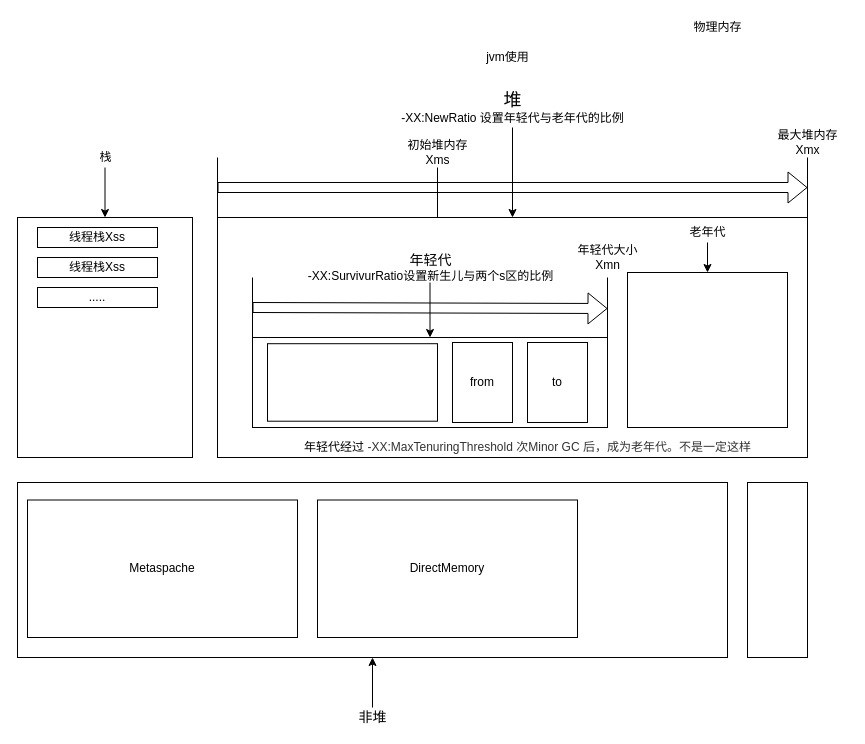
Some shapes in this 865 by 744 pixel diagram are drawn without their labels. Here are the shapes that lost their labels. From the top down, the box of each, then its label:
(626, 272, 788, 428): 老年代通过Full GC回收，会产生内存碎片。如果没有足够的连续内存（比如创建数组）时，会再次提起触发Full GC
(266, 343, 438, 421): 新生儿
(746, 482, 808, 658): jvm本身
